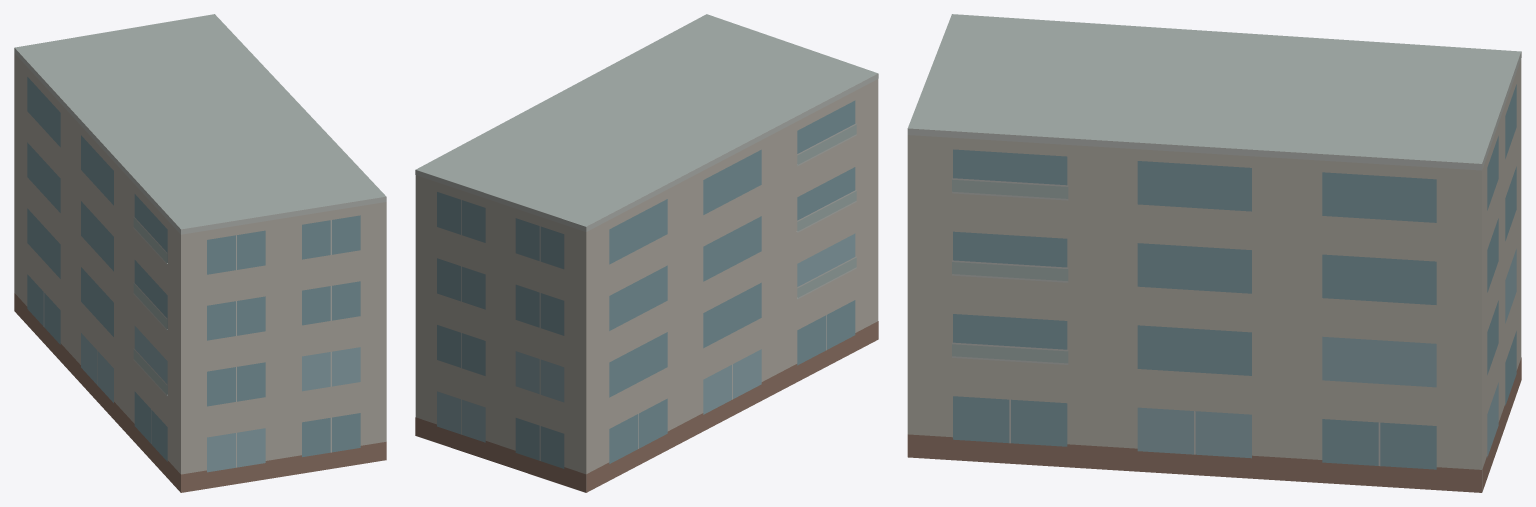
The model's file is survey-upis-33002620.glb.
The picture shows the model from 3 angles, left to right: view 1: azimuth 30°, elevation 25°; view 2: azimuth 150°, elevation 25°; view 3: azimuth 270°, elevation 25°; orthographic projection. The views are drawn at different scales.
Parts seen in each view (by area): view 1: survey-upis-33002620.tmp; view 2: survey-upis-33002620.tmp; view 3: survey-upis-33002620.tmp.
Part boxes in pixels (x1=…): survey-upis-33002620.tmp: x1=14, y1=14, x2=386, y2=492; survey-upis-33002620.tmp: x1=415, y1=14, x2=878, y2=492; survey-upis-33002620.tmp: x1=907, y1=14, x2=1521, y2=492.
Bounding box in the file's own units: 11.94 × 12.2 × 20.64.
